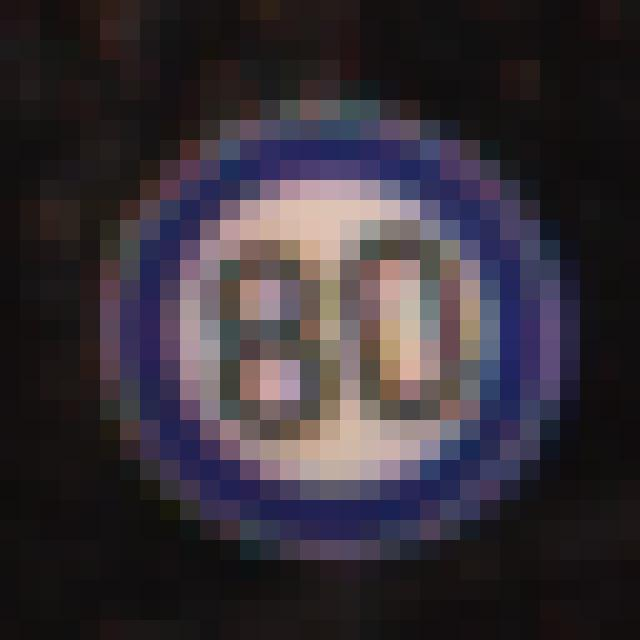SPEED-LIMIT-80: (100, 93, 572, 556)
